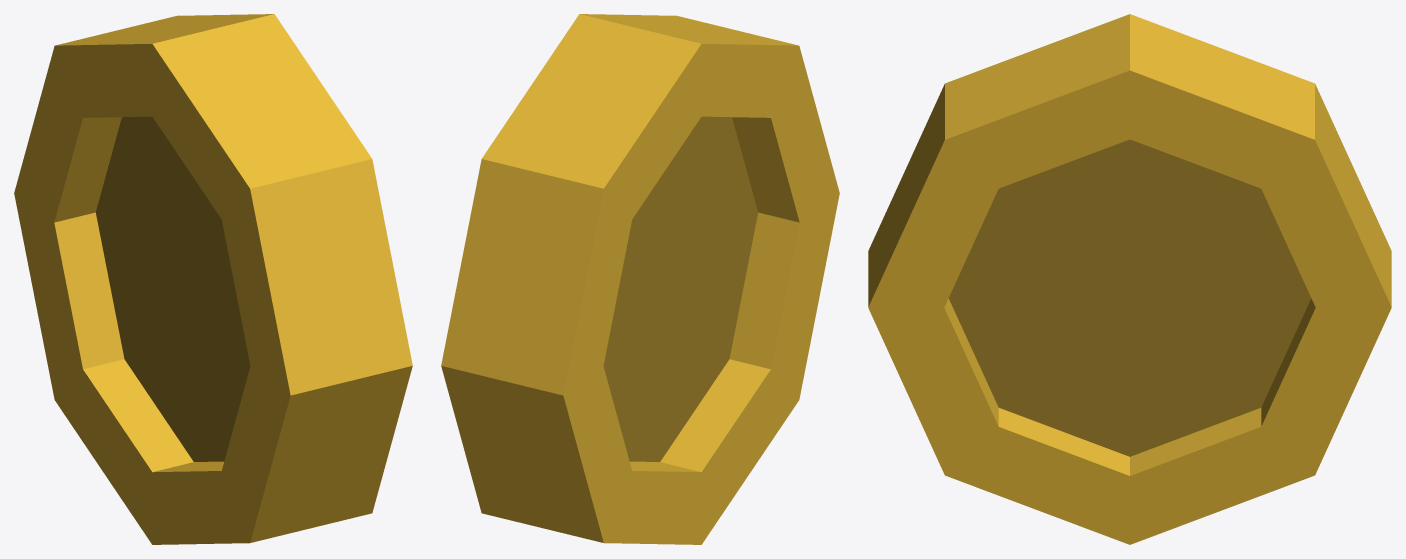
File: coin.fbx
The picture shows the model from 3 angles, left to right: view 1: azimuth 30°, elevation 25°; view 2: azimuth 150°, elevation 25°; view 3: azimuth 270°, elevation 25°; orthographic projection. The views are drawn at different scales.
Visible parts, largest first — view 1: Cylinder.004; view 2: Cylinder.004; view 3: Cylinder.004.
Boxes of the visible parts, left/top/right/bottom form: Cylinder.004: left=14, top=14, right=412, bottom=544; Cylinder.004: left=441, top=14, right=839, bottom=544; Cylinder.004: left=868, top=14, right=1391, bottom=544.
Bounding box in the file's own units: 9.18 × 35.96 × 35.96.
